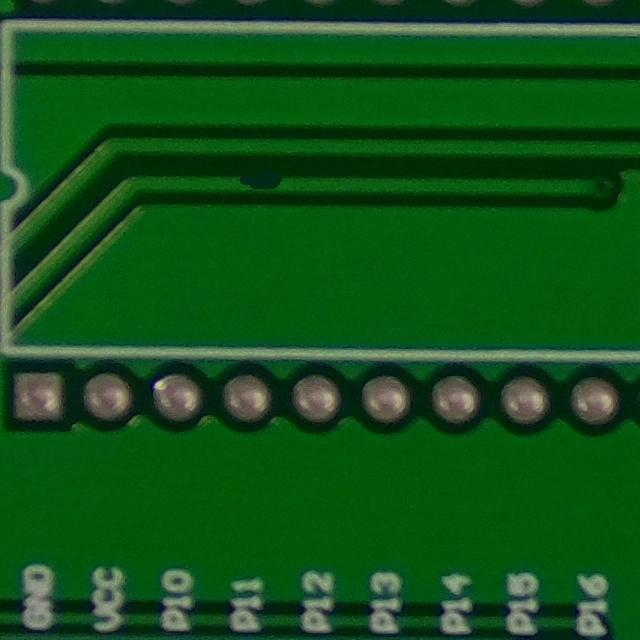mouse_bite: (224, 158, 297, 207)
